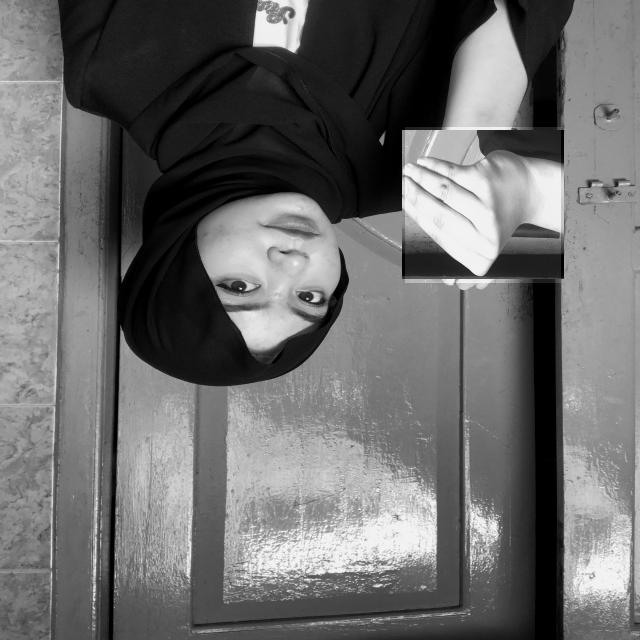kapan: (405, 127, 561, 283)
